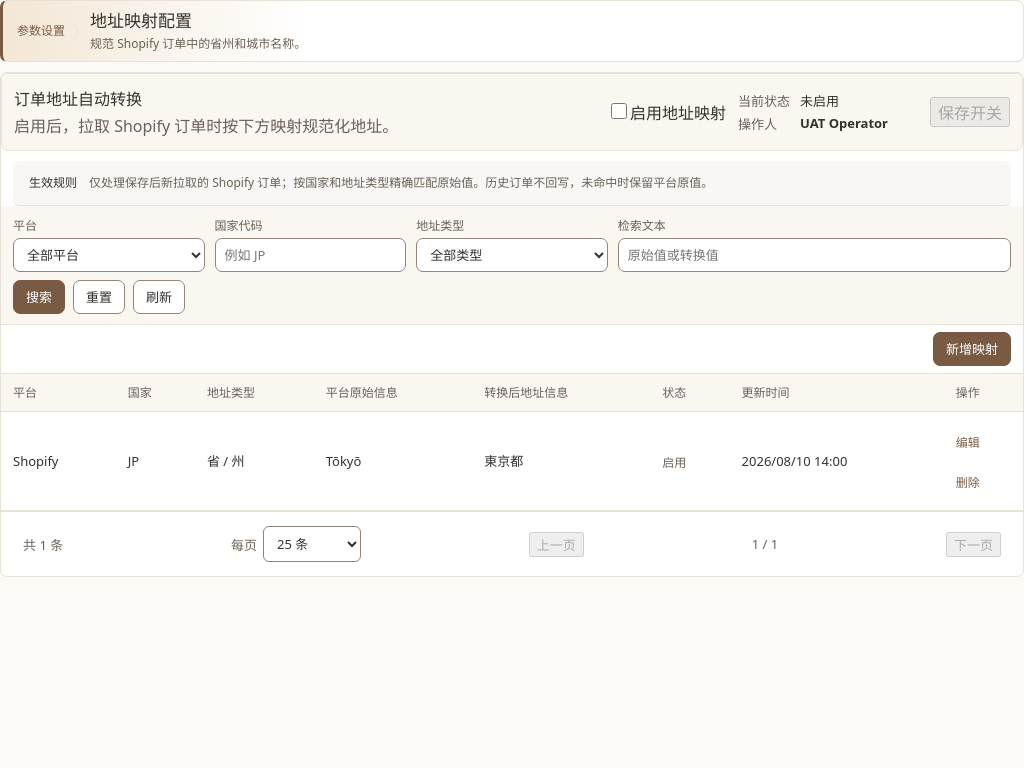
Test: SettingsAddressMappingPage › loads mappings, saves the switch and keeps success feedback visible
This screenshot has width=1024, height=768.
Expected: the text "Tōkyō" is shown, [314,412,472,510]
Click the checkbox labelled "启用地址映射" at point(619, 111), box [611,103,627,119]
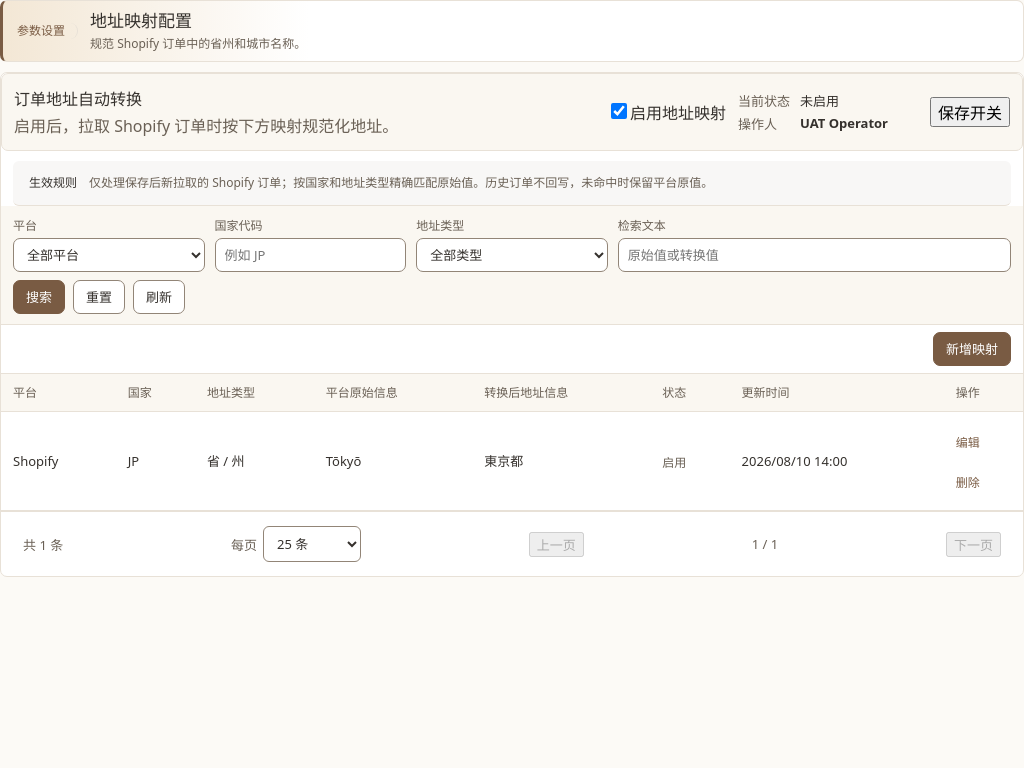
Click the button "保存开关" at point(970, 112), box [930,97,1010,127]
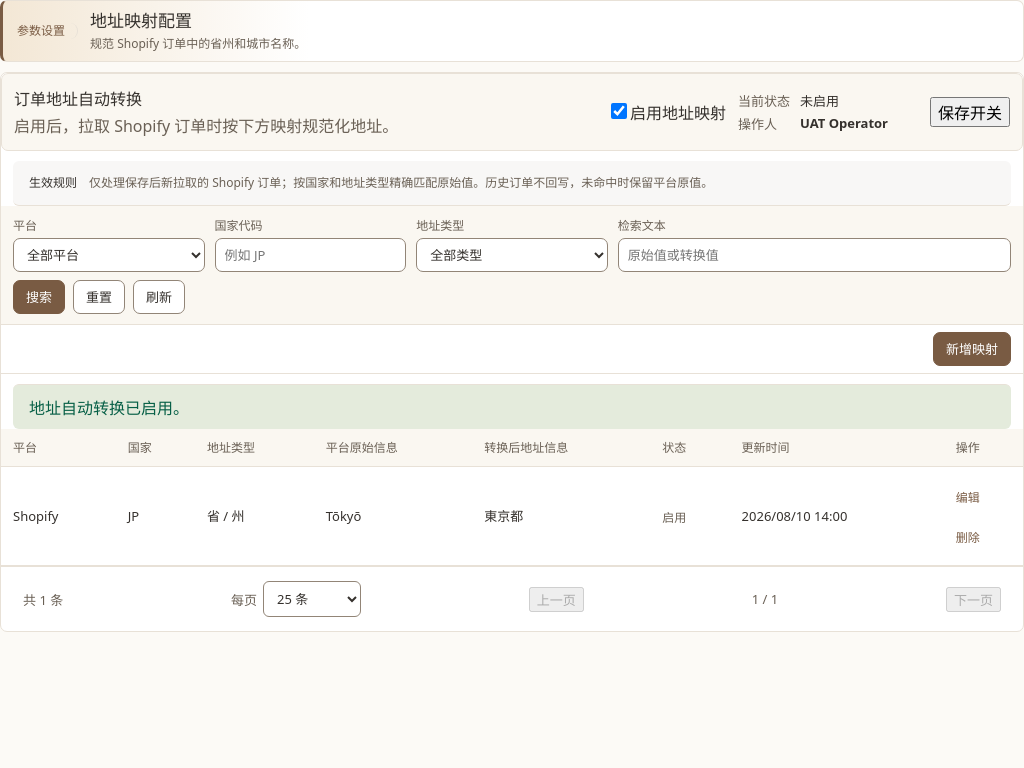
Now the text "地址自动转换已启用。" is shown, box [13,384,1011,428]
